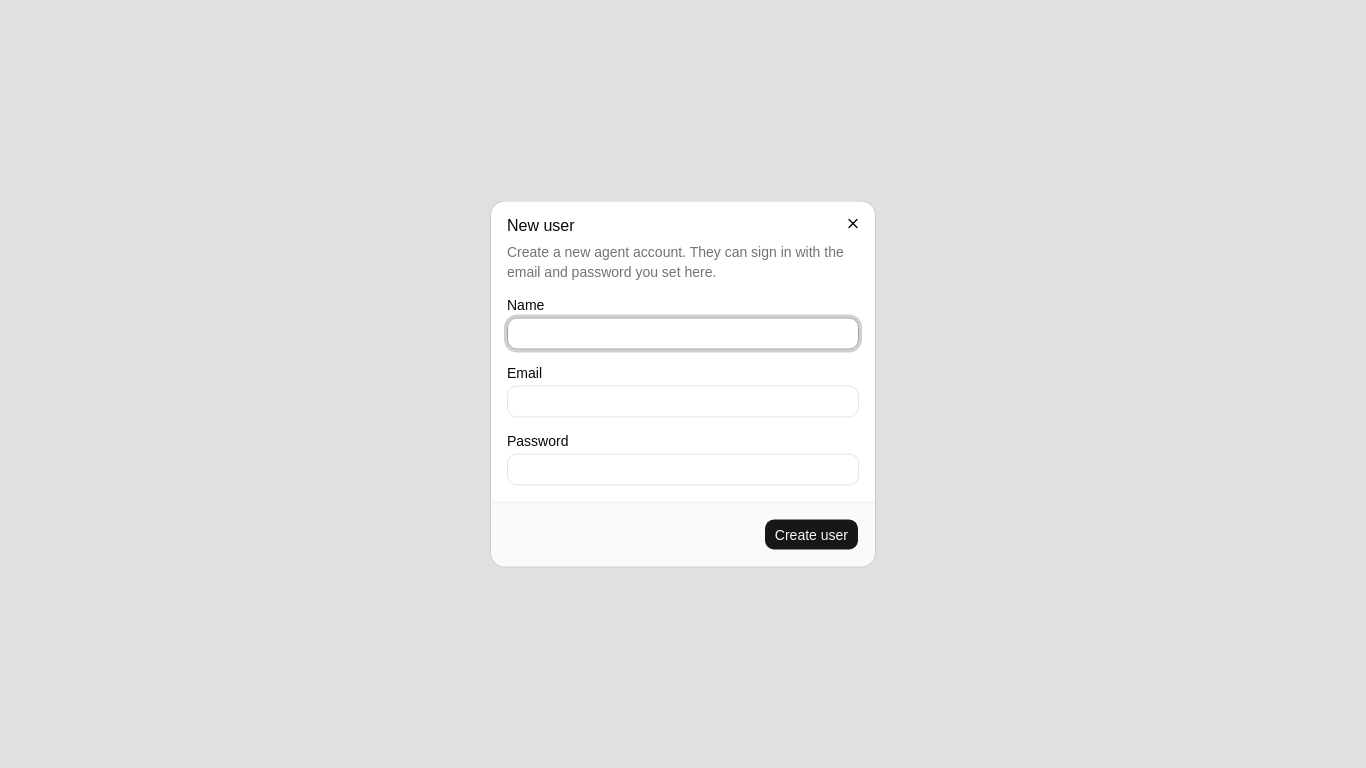
it: CreateUserDialog › rejects a too-short name and too-short password
This screenshot has width=1366, height=768.
Type "Al" into the field labelled "Name" at (683,334), box [507,318,859,350]
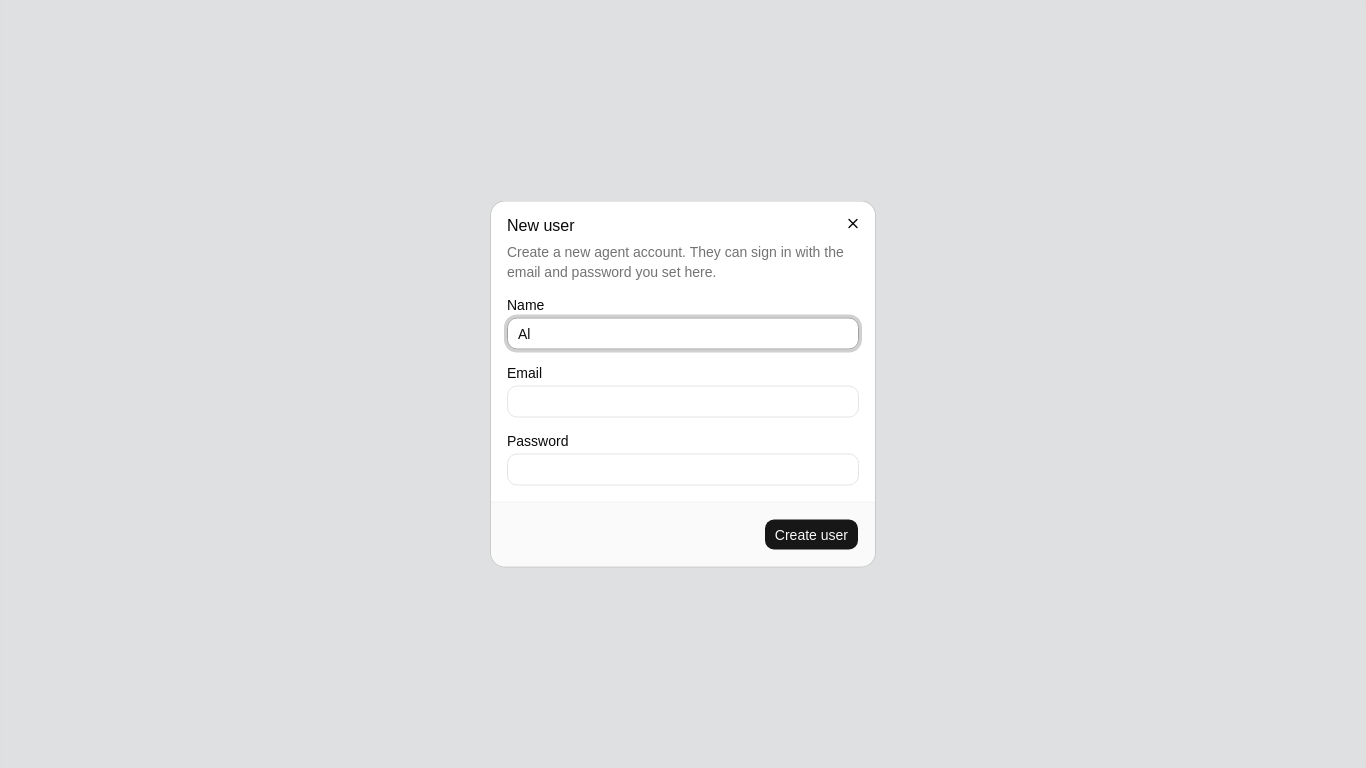
Type "al@example.com" into the field labelled "Email" at (683,402), box [507,386,859,418]
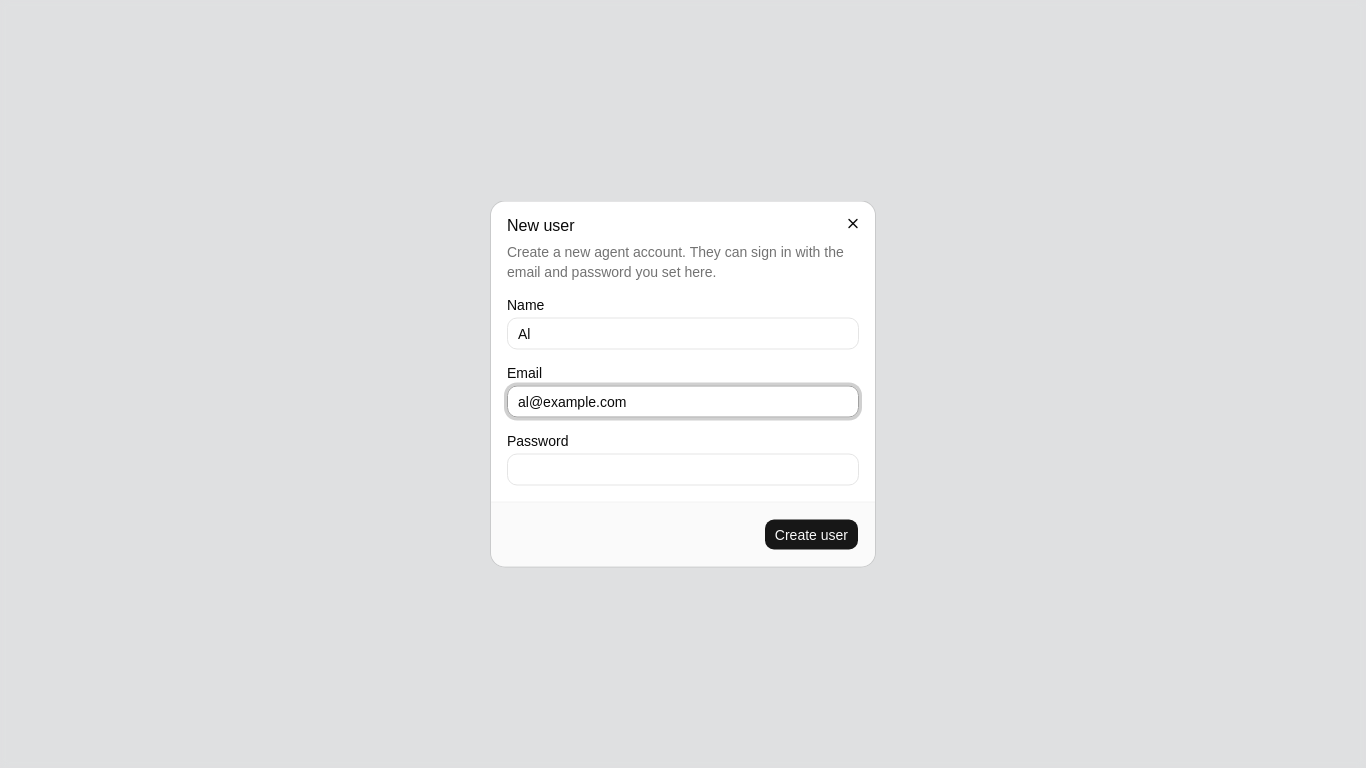
Type "short" into the password field labelled "Password" at (683,470), box [507,454,859,486]
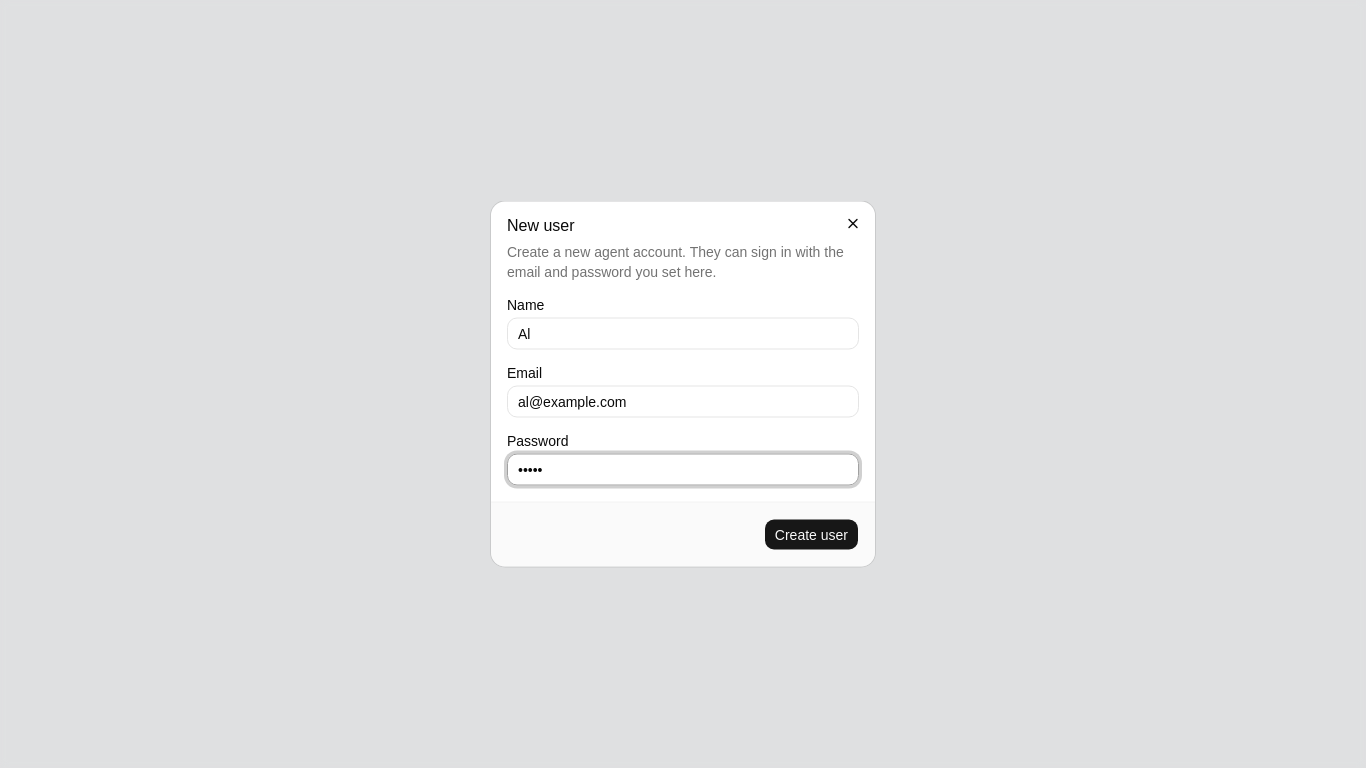
Click the button "Create user" at (811,534), box [764,518,859,550]
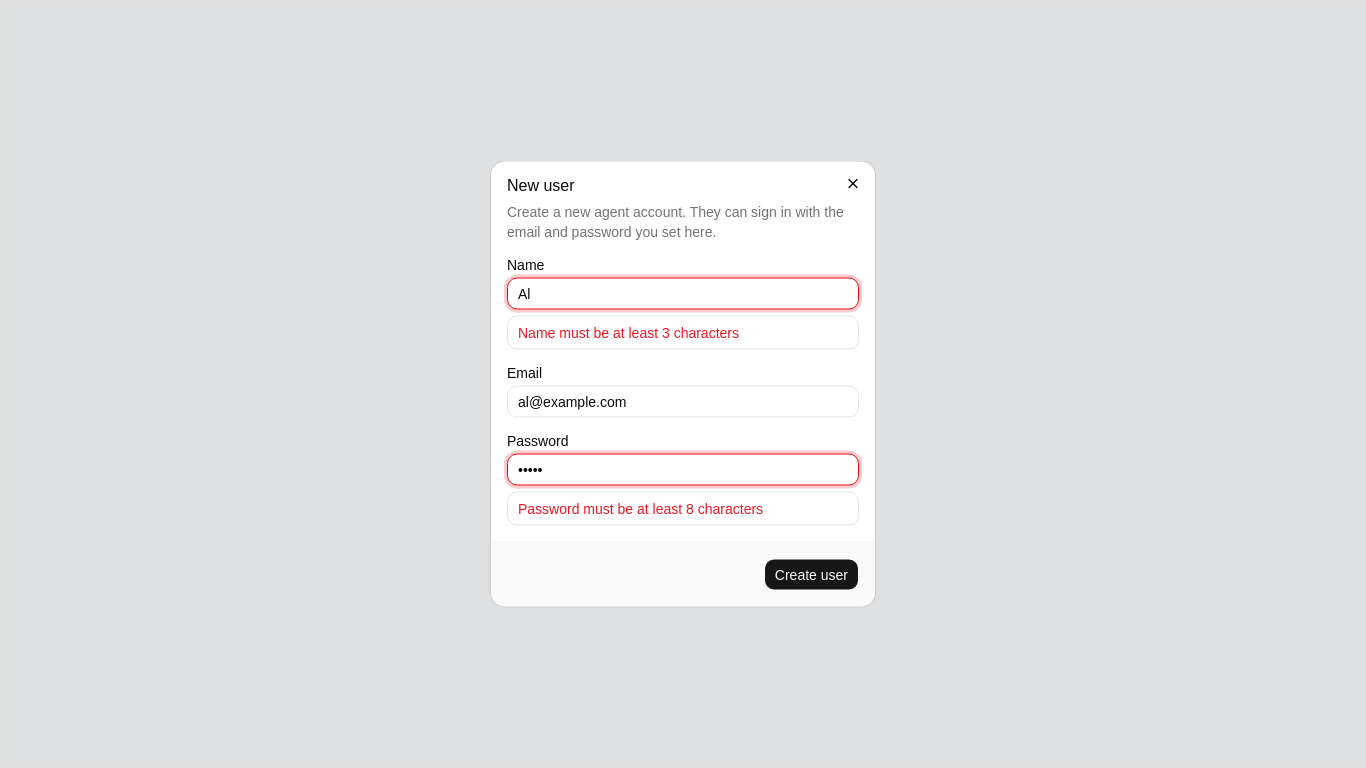
Check: the text "Name must be at least 3 characters" is shown, box [518,324,739,340]
Check: the text "Password must be at least 8 characters" is shown, box [518,500,763,516]
